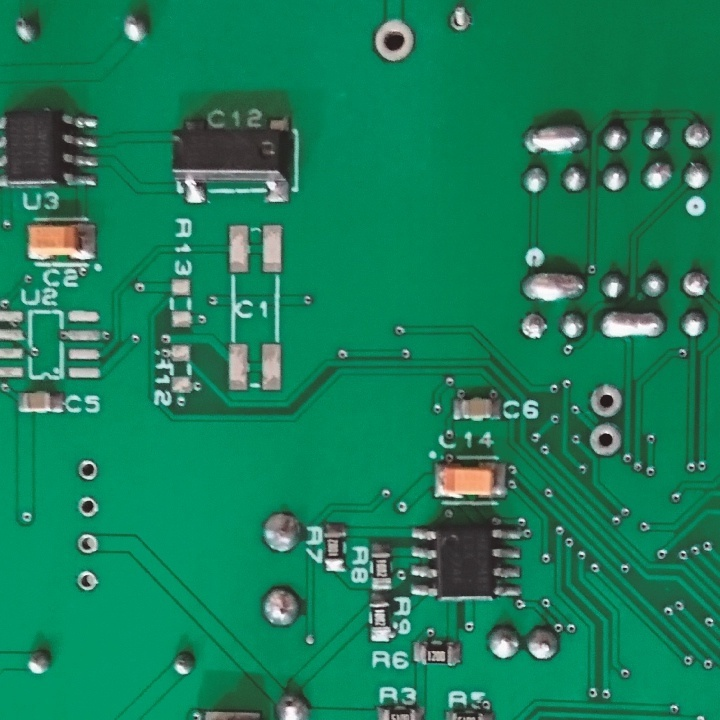F: (369, 18, 418, 66), (588, 381, 625, 419), (587, 423, 623, 458), (678, 266, 710, 299), (681, 120, 713, 152), (447, 2, 478, 34), (70, 565, 104, 592), (520, 309, 548, 340), (74, 456, 102, 486), (74, 529, 101, 555), (75, 494, 100, 520)
P: (599, 303, 666, 342), (523, 120, 587, 157), (521, 270, 586, 299)
